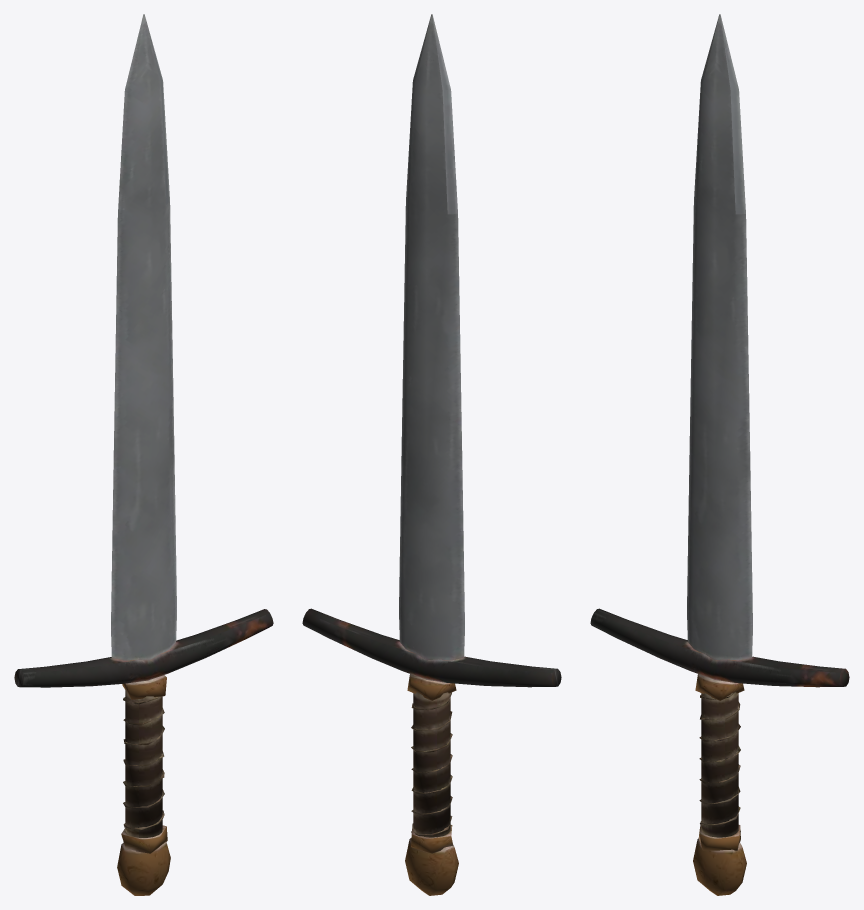
File: eq_sword_2_lod1.glb
3 renders of one model, left to right at view 1: azimuth 30°, elevation 25°; view 2: azimuth 150°, elevation 25°; view 3: azimuth 330°, elevation 25°, orthographic.
Parts seen in each view (by area): view 1: eq_sword_2_lod1; view 2: eq_sword_2_lod1; view 3: eq_sword_2_lod1.
Boxes of the visible parts, x1,y1,x2,y2 form: eq_sword_2_lod1: [14, 14, 273, 895]; eq_sword_2_lod1: [302, 14, 561, 895]; eq_sword_2_lod1: [590, 14, 849, 895].
Bounding box in the file's own units: 0.3727 × 1.24 × 0.0599.
Materials: 1 (1 with a texture image).
